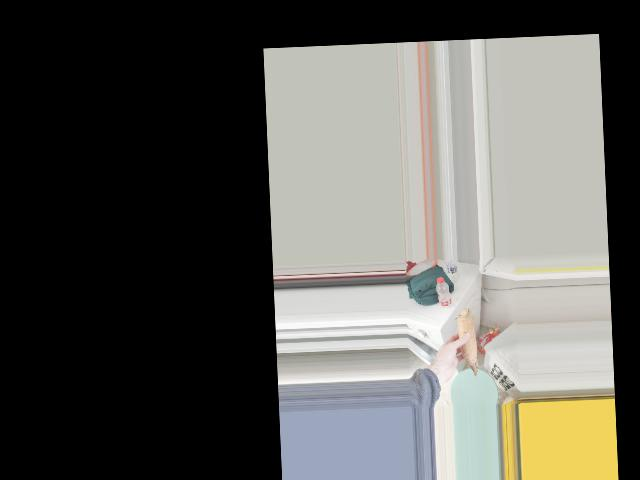sweet_potato: (457, 312, 477, 375)
